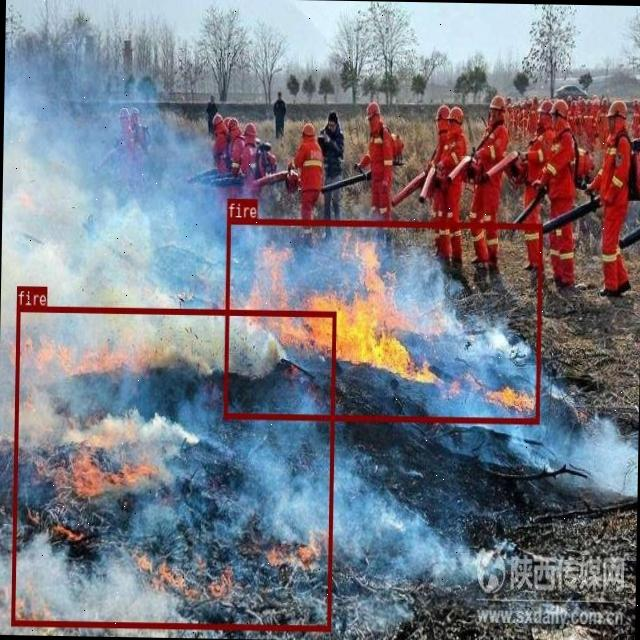fire: (11, 304, 336, 630), (224, 216, 542, 422)
